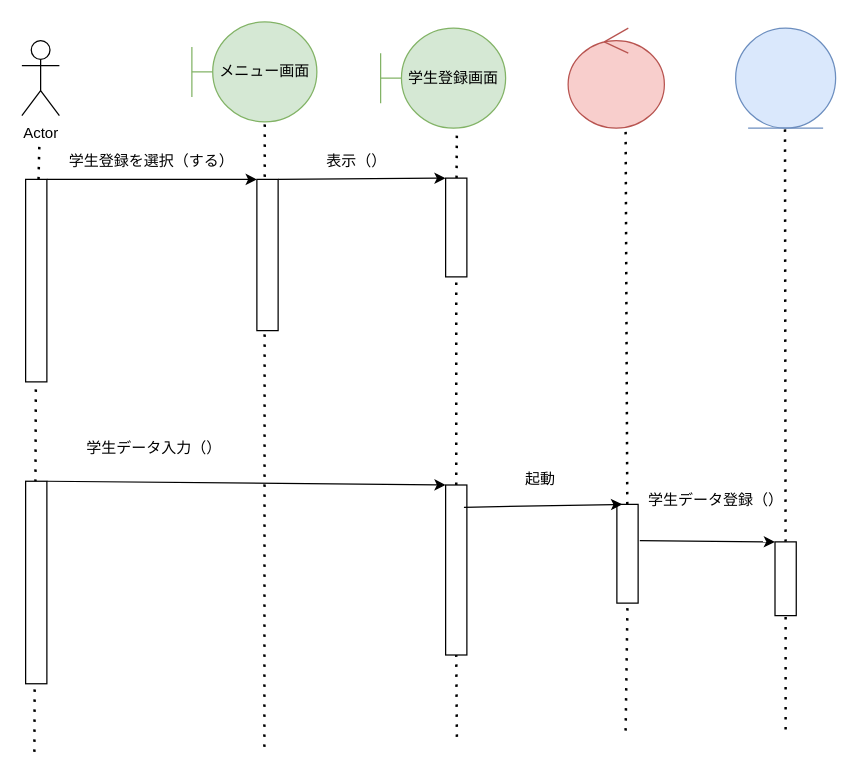
Some shapes in this 858 by 776 pixel diagram are drawn without their labels. Here are the shapes that lost their labels. From the top down, the box of each, then its label:
(567, 27, 664, 128): 学生情報登録
(734, 27, 836, 128): 学生オブジェクト
